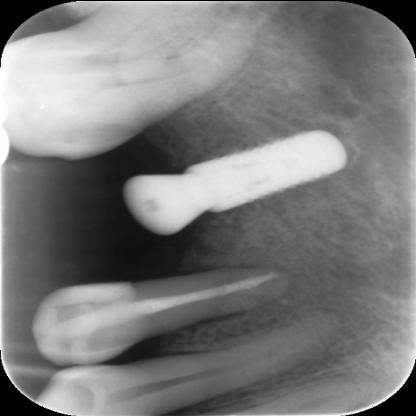ITI: (184, 122, 353, 217)
